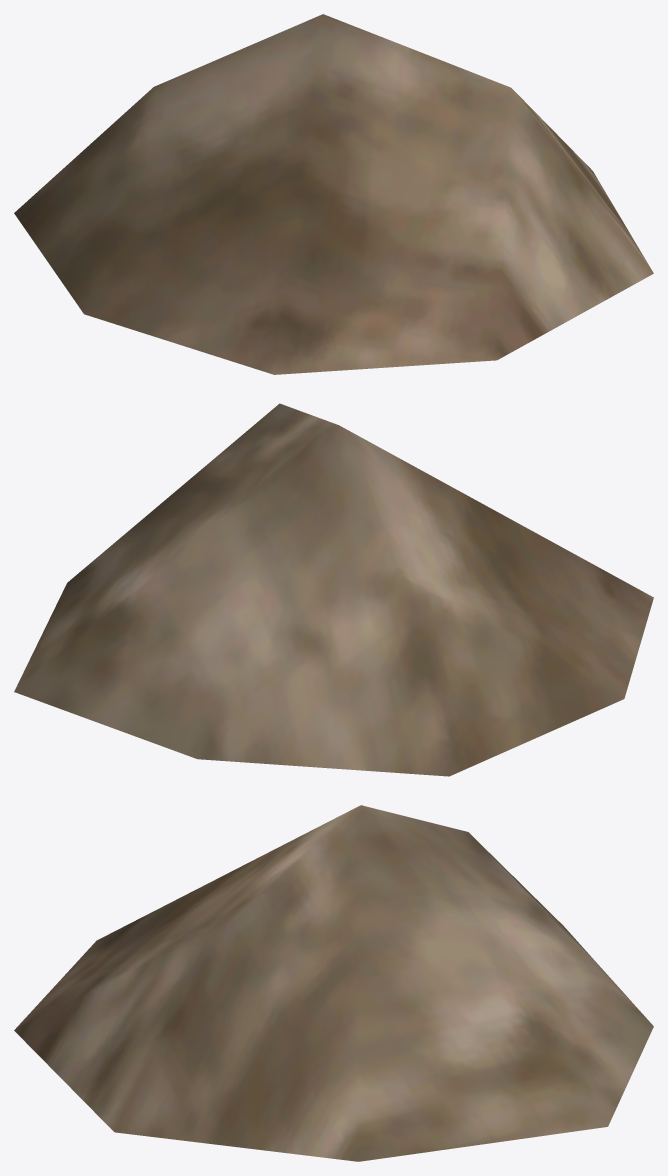
Rendered from OVERHILL_A_01_ROCK91.fbx.
3 renders of one model, top to bottom at view 1: azimuth 30°, elevation 25°; view 2: azimuth 150°, elevation 25°; view 3: azimuth 270°, elevation 25°, orthographic.
Visible parts, largest first — view 1: OVERHILL_A_01_ROCK91; view 2: OVERHILL_A_01_ROCK91; view 3: OVERHILL_A_01_ROCK91.
Part boxes in pixels (bbox=[...]): OVERHILL_A_01_ROCK91: bbox=[14, 14, 653, 374]; OVERHILL_A_01_ROCK91: bbox=[14, 403, 653, 776]; OVERHILL_A_01_ROCK91: bbox=[14, 805, 653, 1161].
Size of the model in its own units: 1849 by 741 by 1916.
1 material, 1 textured.
